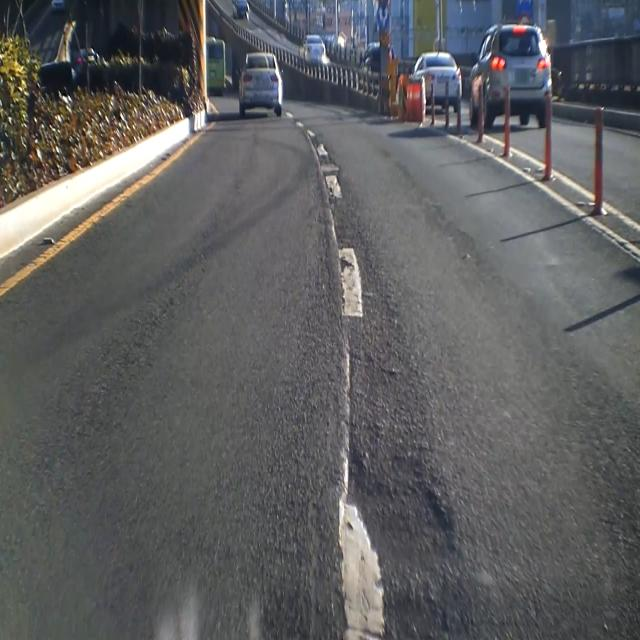Pothole: (338, 434, 464, 581)
